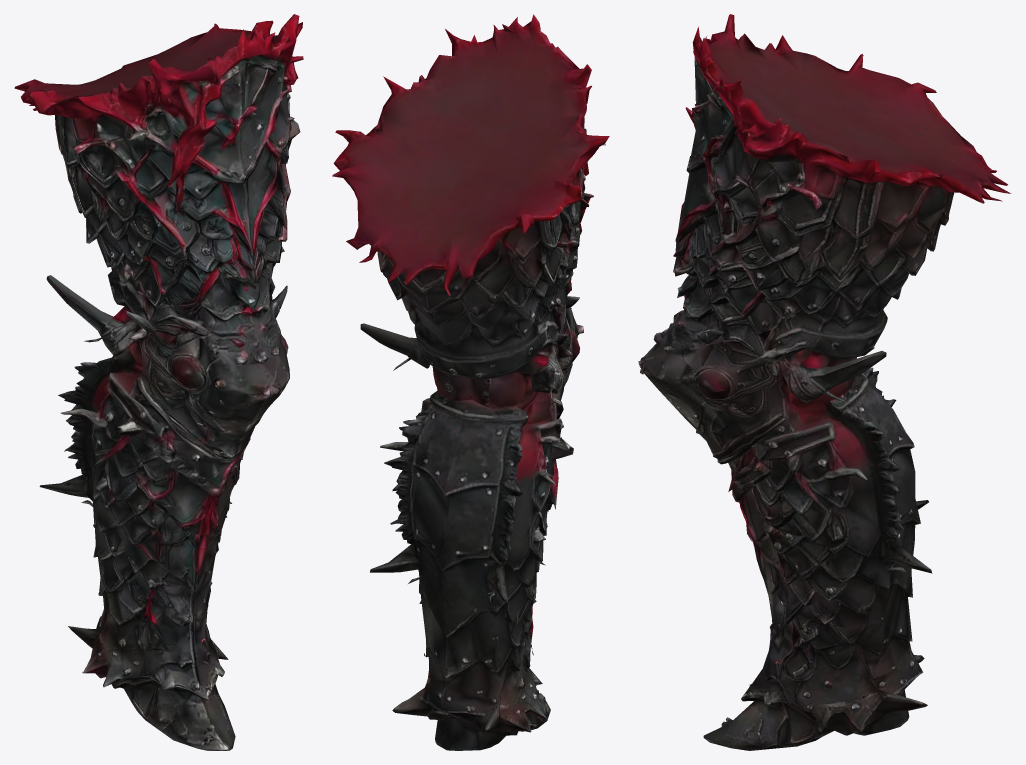
Rendered from metamorfo-greva.glb.
The picture shows the model from 3 angles, left to right: view 1: azimuth 30°, elevation 25°; view 2: azimuth 150°, elevation 25°; view 3: azimuth 270°, elevation 25°; orthographic projection. The views are drawn at different scales.
Visible parts, largest first — view 1: tripo_node_307da7b2-4284-4ee2-bdd1-0a8cfc143695; view 2: tripo_node_307da7b2-4284-4ee2-bdd1-0a8cfc143695; view 3: tripo_node_307da7b2-4284-4ee2-bdd1-0a8cfc143695.
Part boxes in pixels (left/top/right/bottom): tripo_node_307da7b2-4284-4ee2-bdd1-0a8cfc143695: left=14, top=14, right=303, bottom=750; tripo_node_307da7b2-4284-4ee2-bdd1-0a8cfc143695: left=332, top=14, right=609, bottom=750; tripo_node_307da7b2-4284-4ee2-bdd1-0a8cfc143695: left=638, top=14, right=1011, bottom=750.
Bounding box in the file's own units: 0.3588 × 0.9795 × 0.4608.
Materials: 1 (1 with a texture image).
